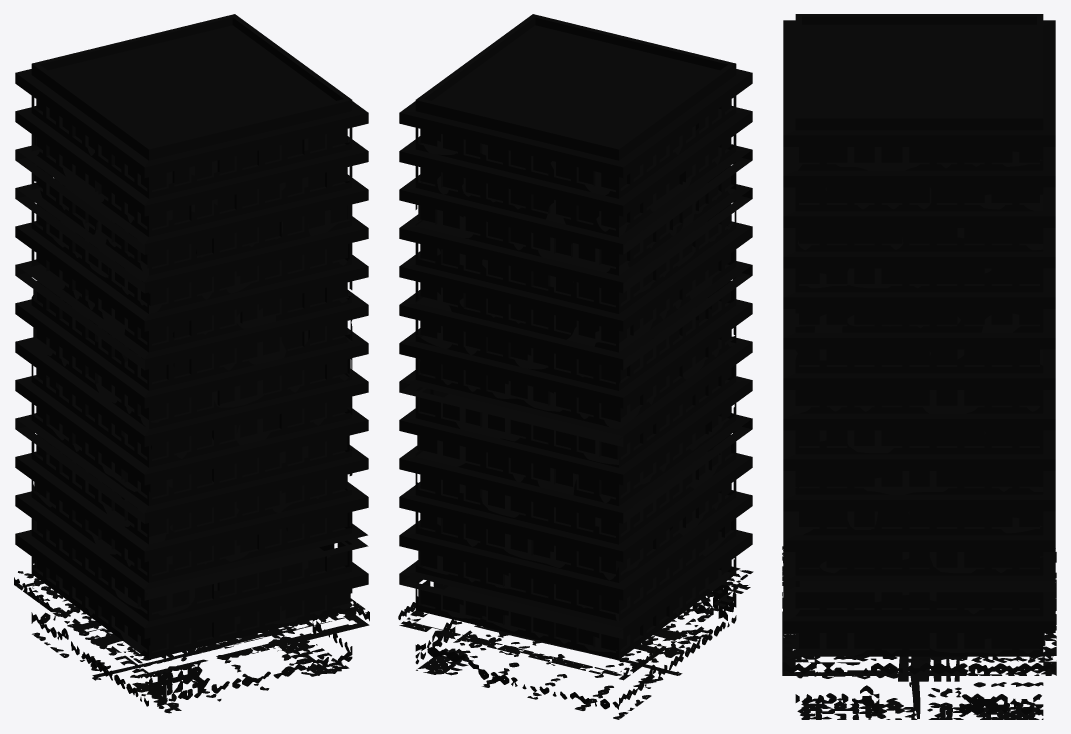
File: buidling 1.fbx
3 renders of one model, left to right at view 1: azimuth 30°, elevation 25°; view 2: azimuth 150°, elevation 25°; view 3: azimuth 270°, elevation 25°, orthographic. The views are drawn at different scales.
Visible parts, largest first — view 1: Plane.001, Plane.002, Plane.003; view 2: Plane.001, Plane.002, Plane.003; view 3: Plane.001, Plane.002, Plane.003.
Part boxes in pixels (left/top/right/bottom): Plane.001: left=15, top=69, right=368, bottom=659; Plane.002: left=31, top=14, right=352, bottom=160; Plane.003: left=14, top=571, right=369, bottom=713; Plane.001: left=399, top=69, right=752, bottom=659; Plane.002: left=415, top=14, right=736, bottom=160; Plane.003: left=398, top=566, right=753, bottom=719; Plane.001: left=783, top=20, right=1055, bottom=656; Plane.002: left=795, top=14, right=1043, bottom=130; Plane.003: left=782, top=546, right=1056, bottom=719.
Size of the model in its own units: 2216 by 5357 by 2216.
